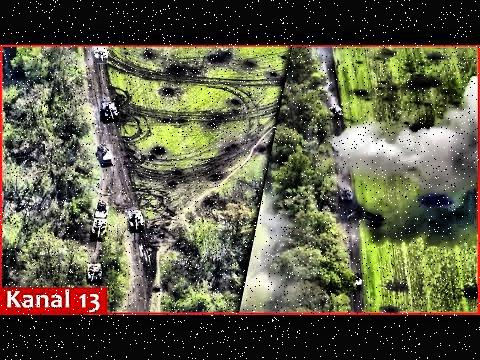military-vehicle: (90, 219, 108, 242), (100, 102, 119, 123), (128, 211, 145, 232), (86, 262, 103, 283), (94, 199, 111, 219), (98, 145, 114, 164), (92, 46, 108, 64)
